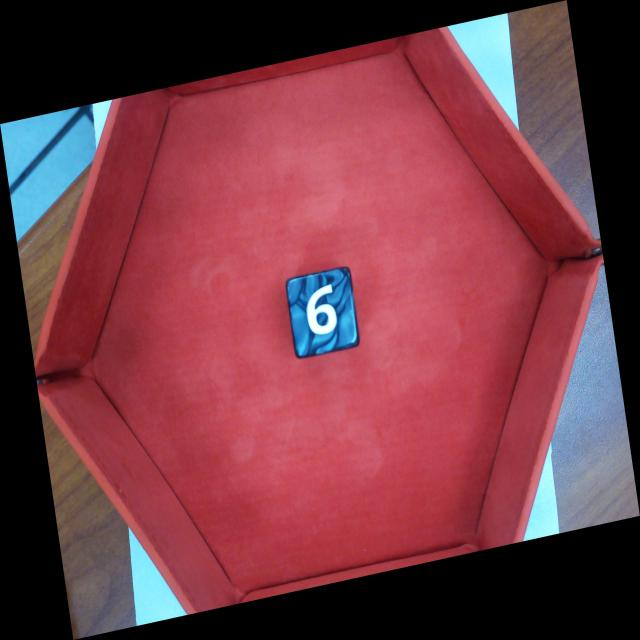dice: (290, 272, 358, 356)
